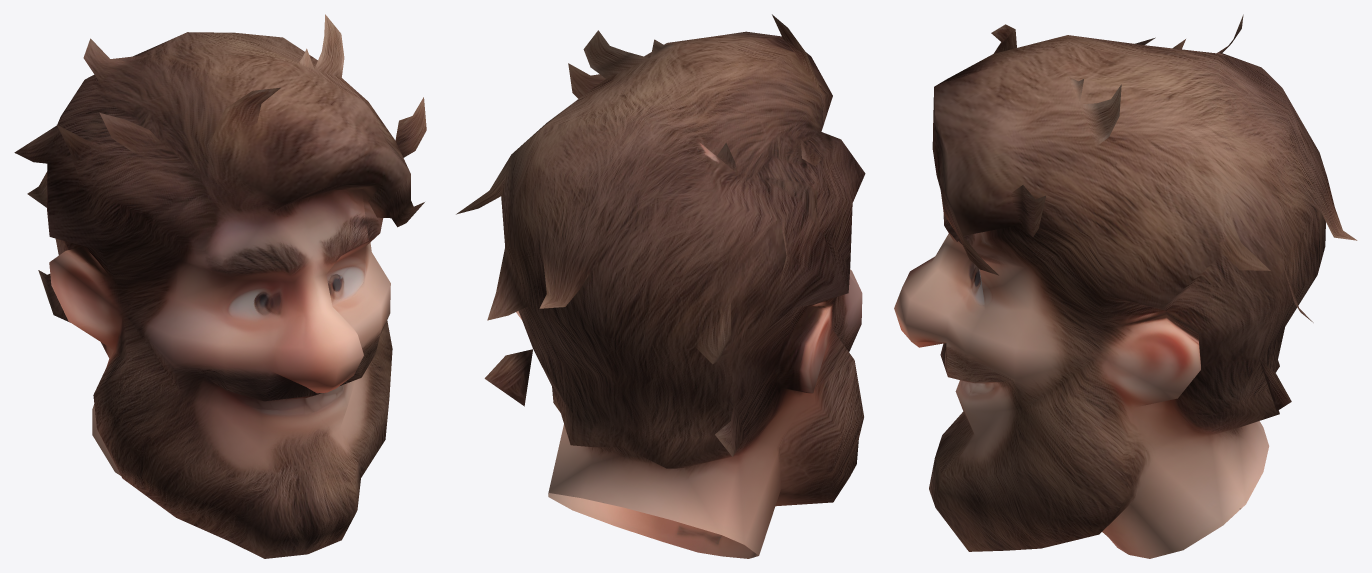
The model's file is bearded_man_head_3d_model.fbx.
3 views of the same model, side by side, from view 1: azimuth 30°, elevation 25°; view 2: azimuth 150°, elevation 25°; view 3: azimuth 270°, elevation 25° (orthographic). The views are drawn at different scales.
Parts seen in each view (by area): view 1: tripo_node_95919e6e; view 2: tripo_node_95919e6e; view 3: tripo_node_95919e6e.
Boxes of the visible parts, bbox=[...] form: tripo_node_95919e6e: bbox=[14, 14, 426, 558]; tripo_node_95919e6e: bbox=[456, 14, 865, 558]; tripo_node_95919e6e: bbox=[894, 14, 1357, 558].
Size of the model in its own units: 0.7212 by 0.9995 by 0.8198.
1 material, 1 textured.
